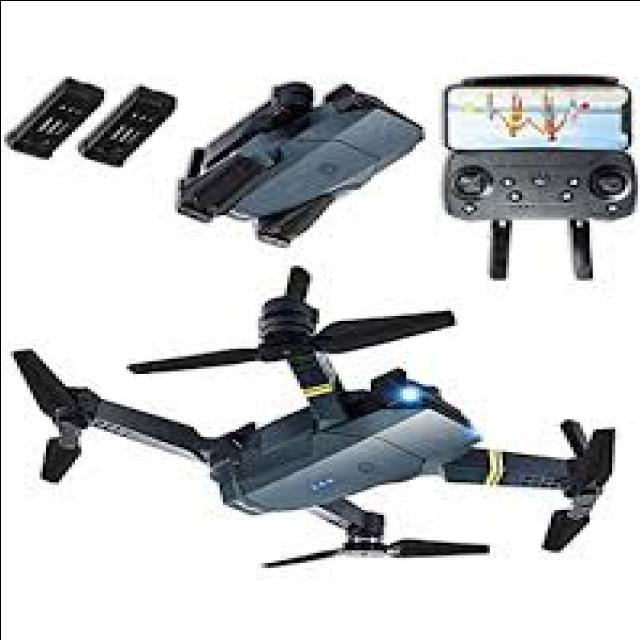drone: (0, 257, 640, 585)
